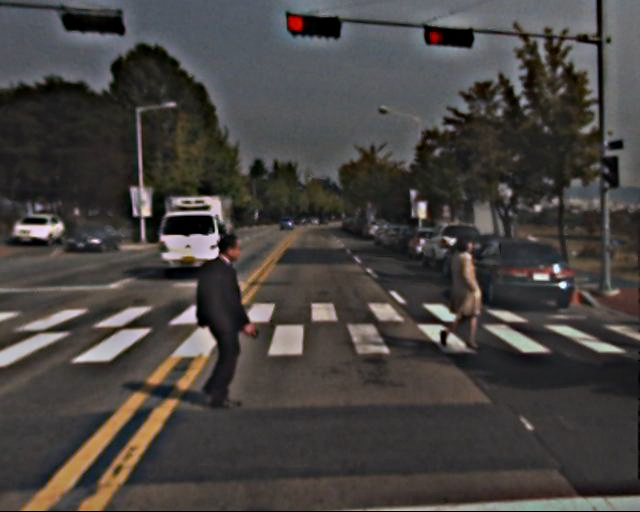person: (182, 233, 255, 412), (435, 237, 483, 353)
